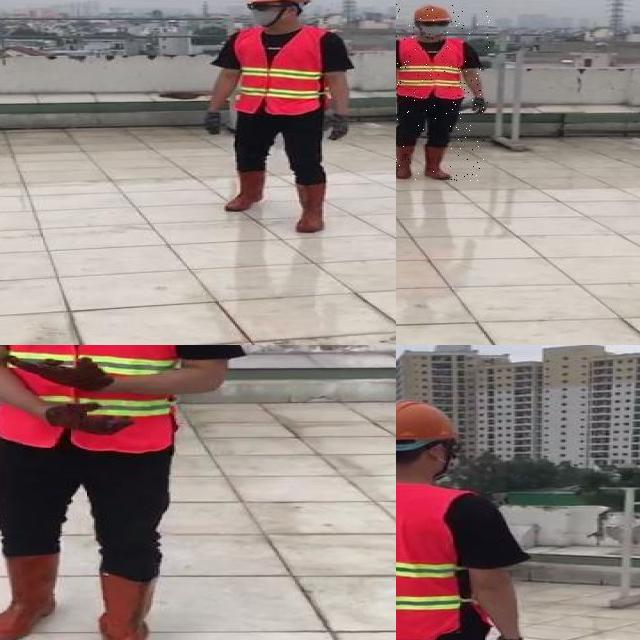boots: (0, 552, 56, 640), (97, 573, 167, 640), (292, 180, 331, 234), (226, 170, 265, 210), (422, 146, 452, 180), (396, 145, 414, 180)
face_mask: (245, 0, 287, 28)
glasses: (243, 0, 275, 13)
hand_glove: (20, 357, 116, 394), (42, 402, 128, 436), (198, 110, 226, 140), (322, 114, 347, 140)
head_helmet: (396, 398, 459, 443), (413, 4, 451, 21)
person: (0, 345, 229, 640), (192, 0, 354, 239), (396, 395, 530, 640), (396, 3, 489, 183)
vest: (0, 345, 190, 454), (396, 482, 470, 640), (230, 27, 326, 114), (396, 37, 464, 99)
